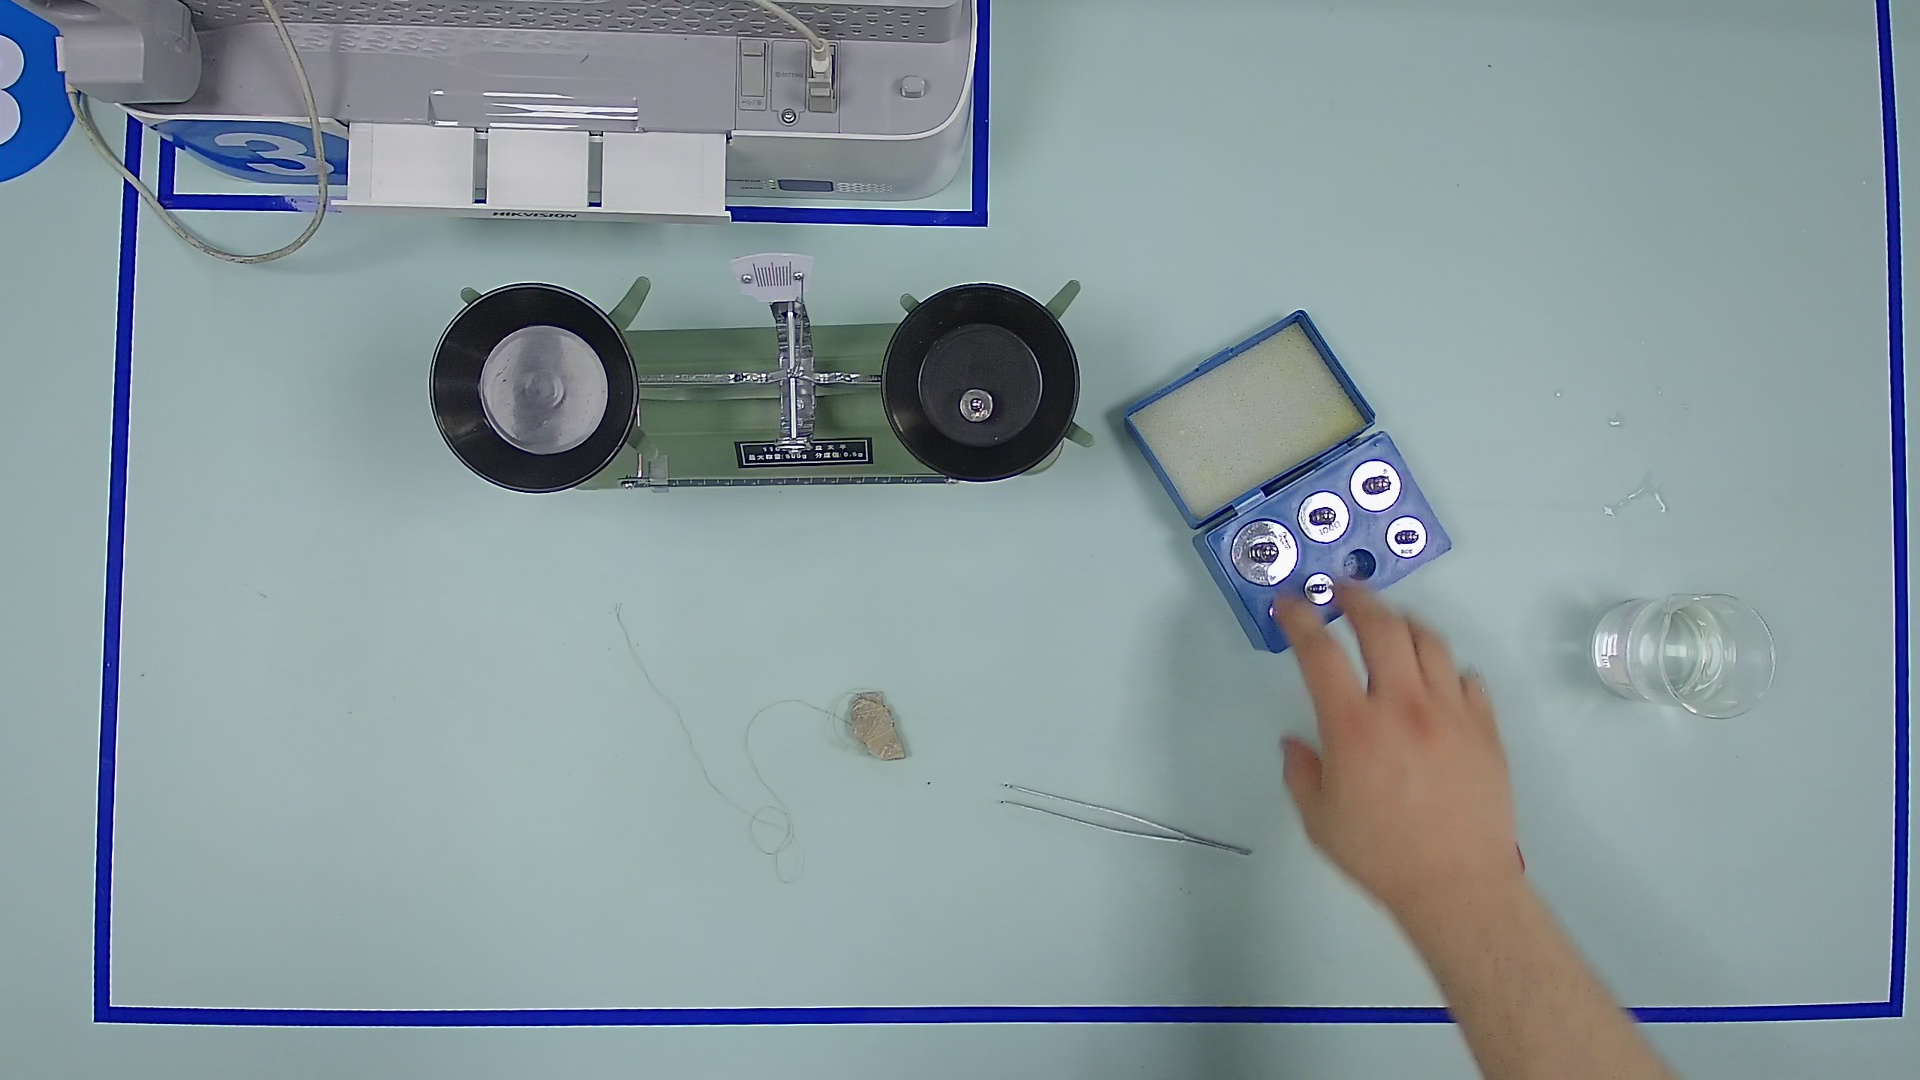bei: (1577, 579, 1792, 733)
fama: (1230, 518, 1299, 587), (1292, 483, 1352, 545), (1346, 459, 1406, 514), (1385, 514, 1429, 560), (957, 388, 996, 426), (1302, 572, 1336, 605)
gan: (611, 446, 948, 518)
hand: (1251, 585, 1534, 889)
he: (1164, 407, 1472, 665)
niezi: (996, 756, 1273, 887)
pointer: (735, 249, 811, 299)
shi: (835, 680, 924, 771)
tuo: (413, 266, 658, 513), (861, 262, 1104, 506)
you: (642, 451, 676, 500)
